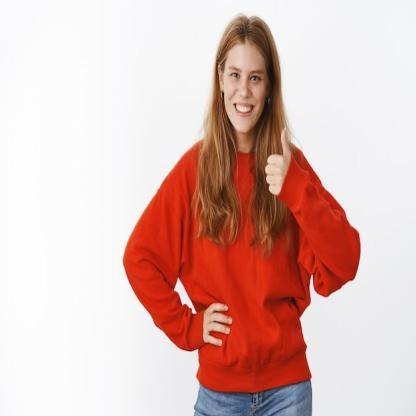thumb_up: (260, 122, 296, 200)
